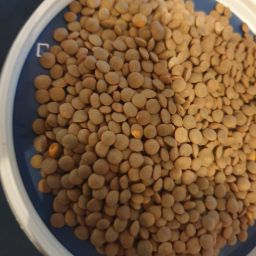Black Lentil(masoor daal): (62, 1, 147, 254), (155, 2, 224, 256), (34, 32, 112, 247), (194, 11, 256, 256)
